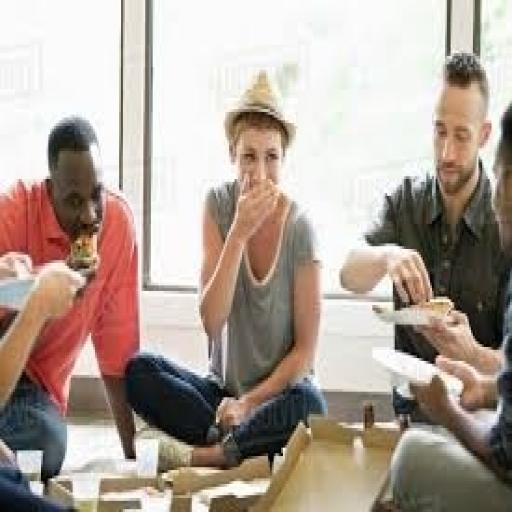eating: (123, 67, 328, 473), (0, 112, 141, 487), (382, 98, 510, 509)
